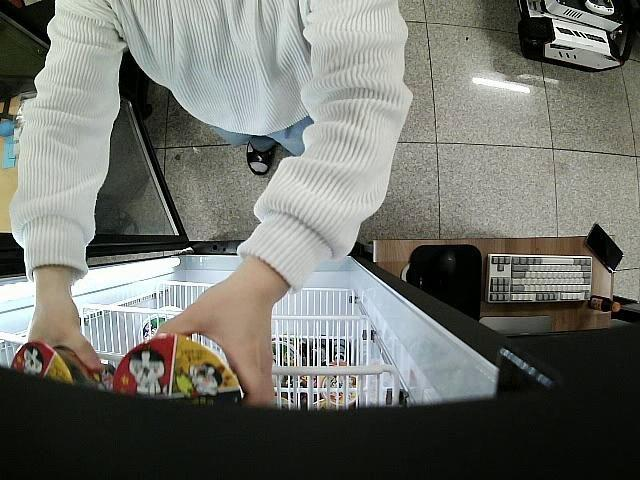08_buldak_S: (110, 331, 242, 410), (12, 338, 114, 392)
